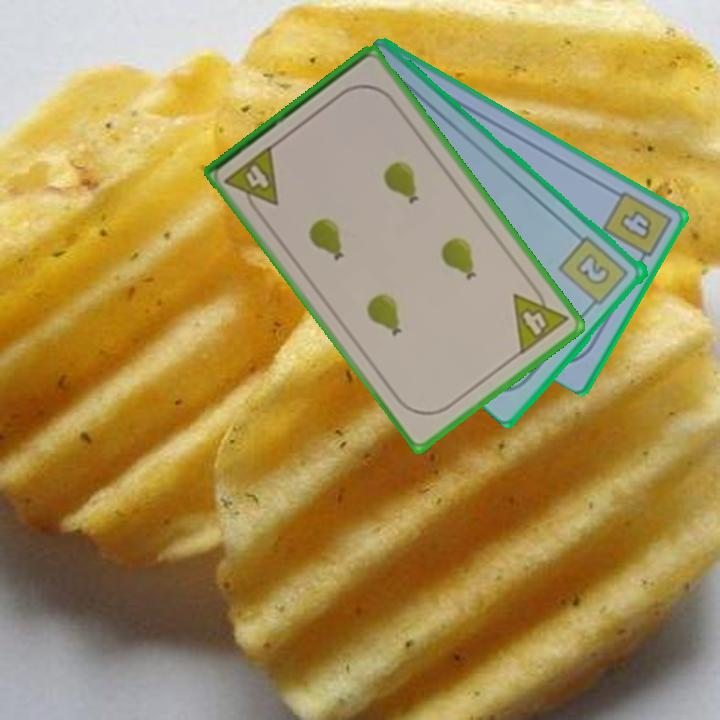2b: (555, 232, 632, 314)
4b: (599, 187, 675, 268)
4p: (509, 278, 572, 358), (221, 141, 282, 219)
